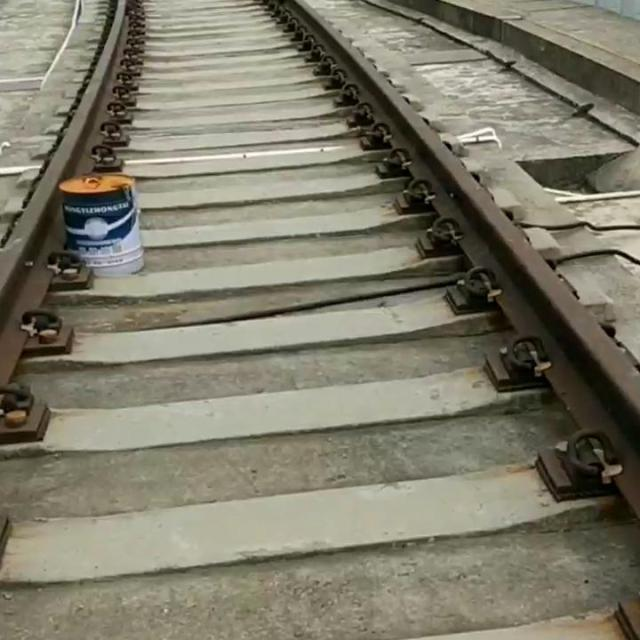rail: (281, 1, 640, 520), (1, 1, 129, 385)
